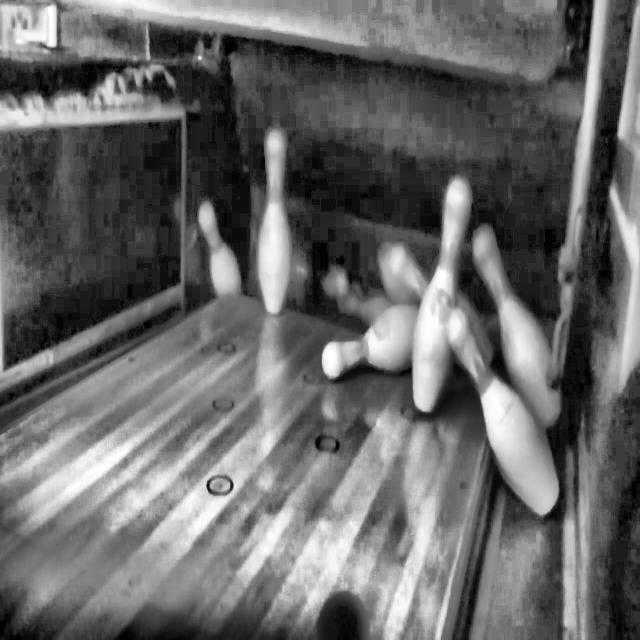bowling-pins: (413, 179, 470, 413), (258, 129, 290, 313)
